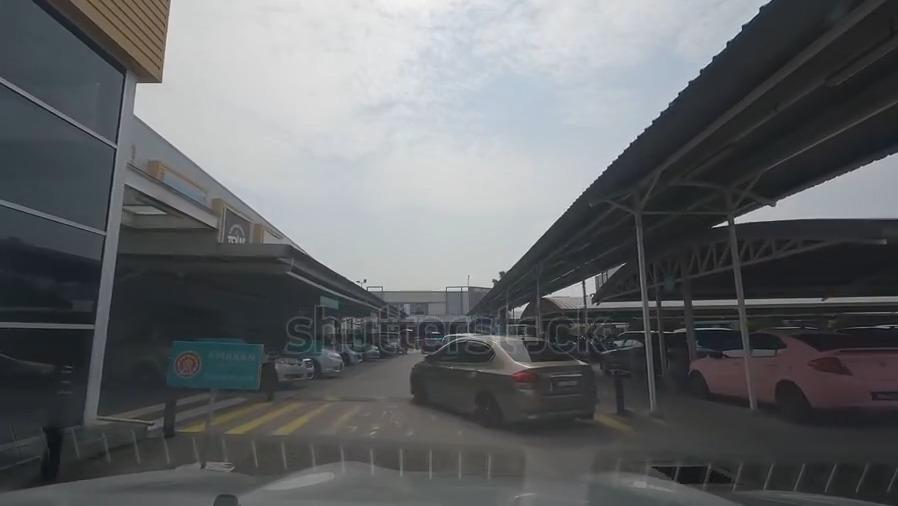car: (688, 335, 898, 407), (409, 341, 594, 416), (110, 327, 295, 388), (600, 331, 682, 374), (307, 346, 343, 375), (335, 343, 363, 361), (422, 330, 441, 348), (297, 358, 315, 375), (361, 344, 379, 358)
manhole: (648, 460, 735, 491)
pedestrian: (169, 403, 674, 442)
speedbump: (282, 391, 414, 402)
wheel: (473, 394, 500, 423), (131, 363, 156, 393), (409, 377, 426, 400), (262, 368, 275, 386)
